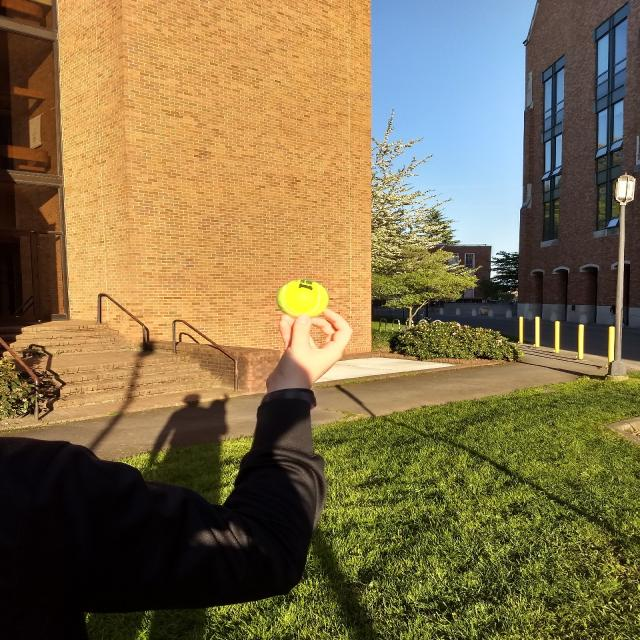Tennis-Ball: (277, 279, 329, 318)
